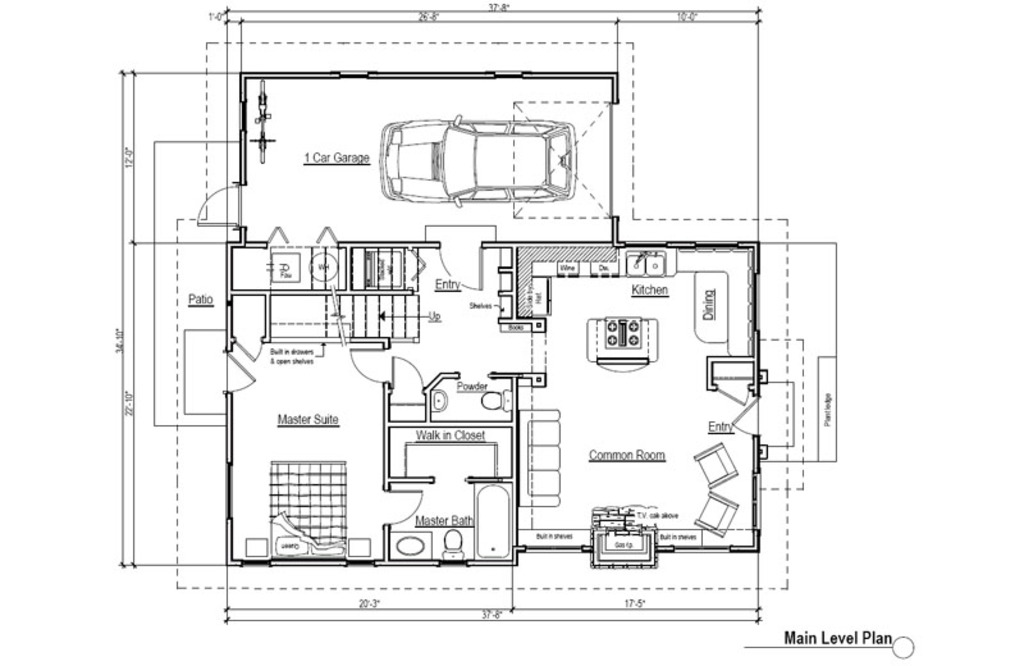bed: (260, 449, 346, 560)
door: (192, 181, 249, 234), (384, 349, 426, 408), (226, 319, 276, 367), (217, 352, 262, 401), (432, 240, 479, 284), (725, 383, 762, 438), (348, 343, 393, 388), (376, 488, 429, 523), (721, 378, 752, 403)
kitchen_bar: (584, 314, 669, 387)
large_sink: (478, 380, 513, 422), (435, 526, 469, 566)
large_sofa: (517, 405, 560, 506)
small_sink: (391, 533, 431, 561), (424, 382, 451, 423)
small_sofa: (696, 481, 743, 547), (692, 431, 742, 488)
stairs: (262, 282, 427, 342)
tub: (470, 477, 513, 571)
twin_sink: (619, 241, 668, 283)
window: (215, 383, 240, 472)
